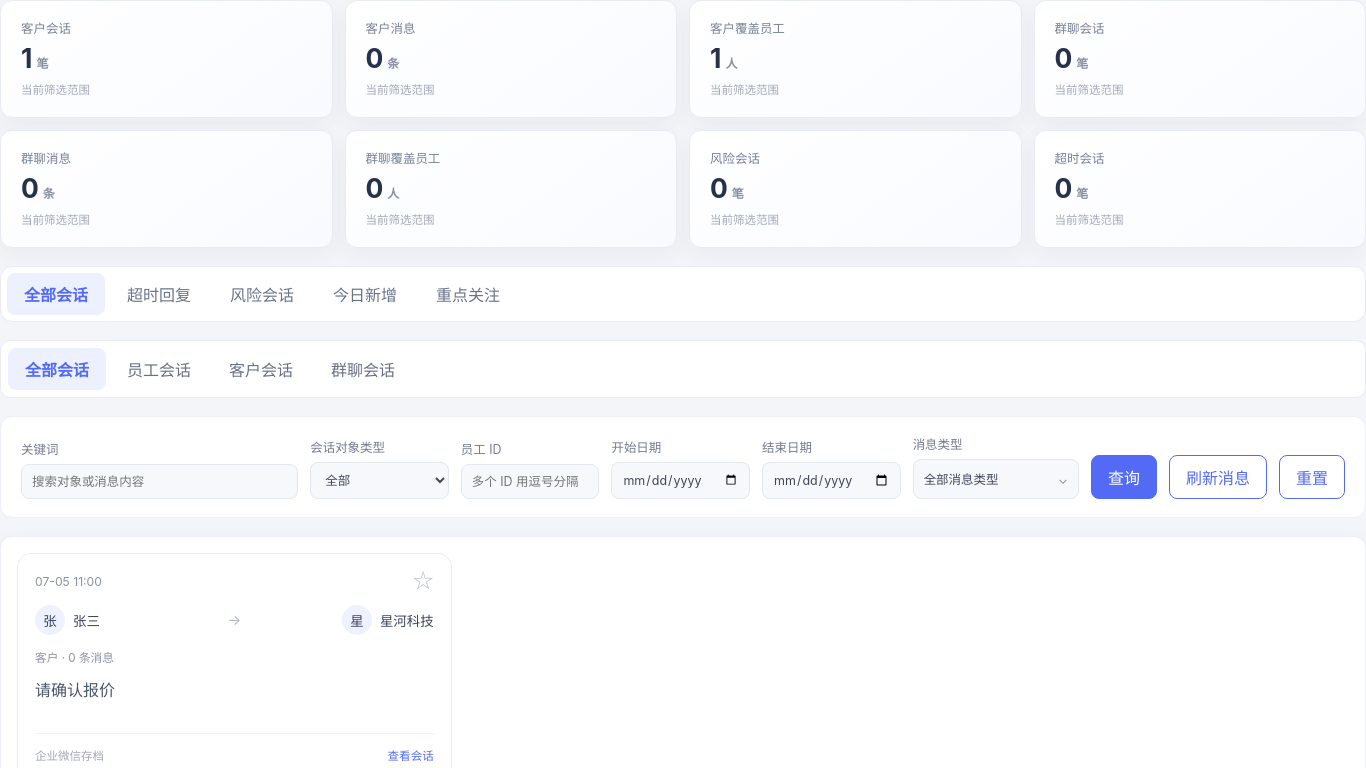
Test: ConversationGlobalPage › opens detail when clicking the conversation card and closes when clicking the backdrop
Expected: the text "星河科技" is shown, [380,610,434,630]
Click the text "请确认报价": [75, 690] box [35,680,115,700]
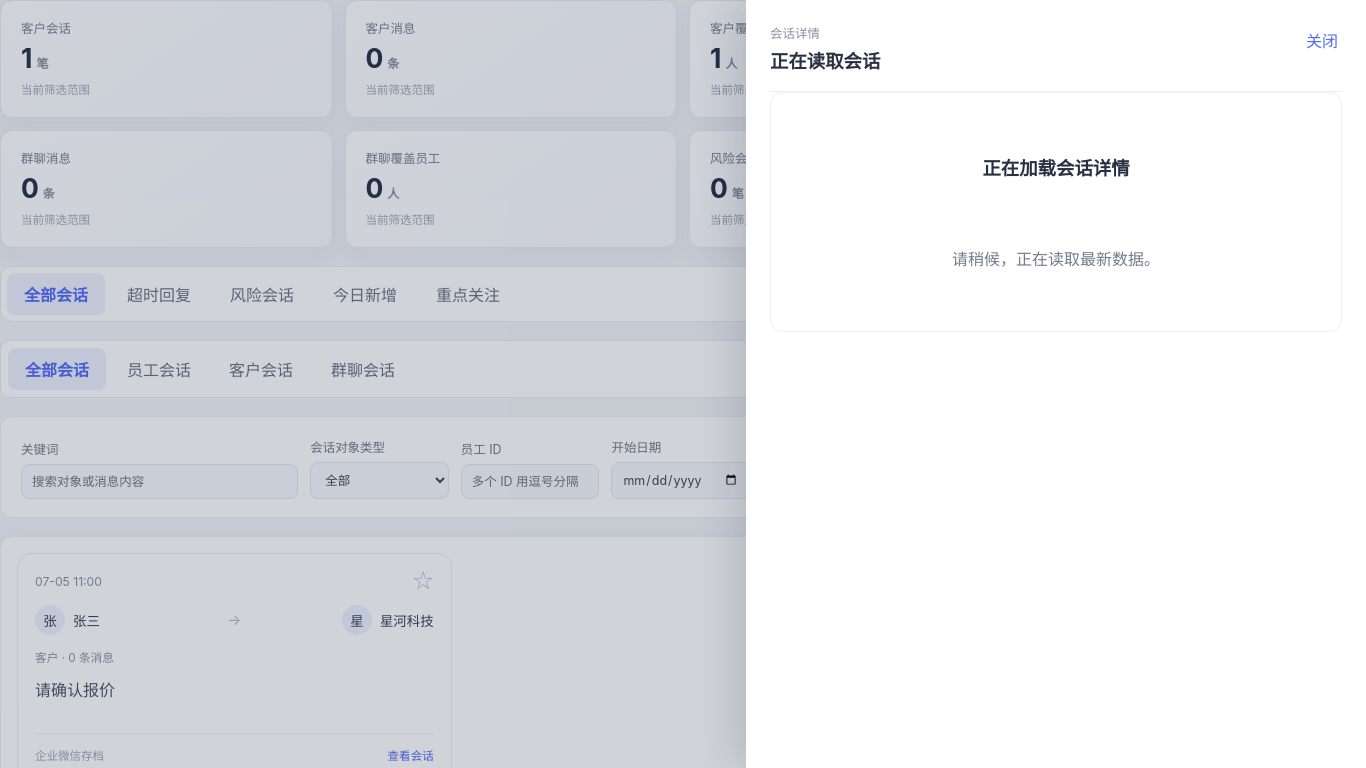
Expected: the dialog "会话详情" is shown, [746,0,1365,767]
Click the element with test id "conversation-global-drawer-backdrop": [683, 384] box [0,0,1365,767]
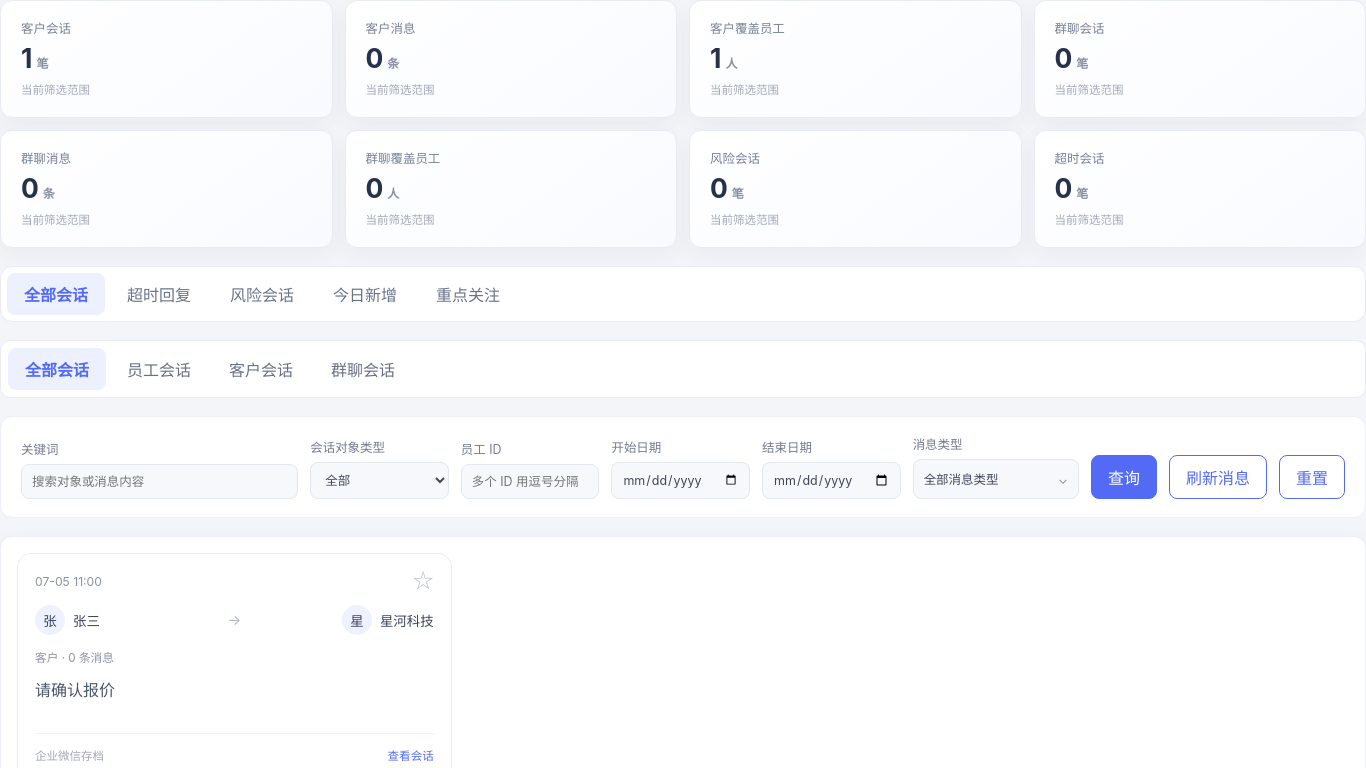
Expected: the text "会话详情" is gone
